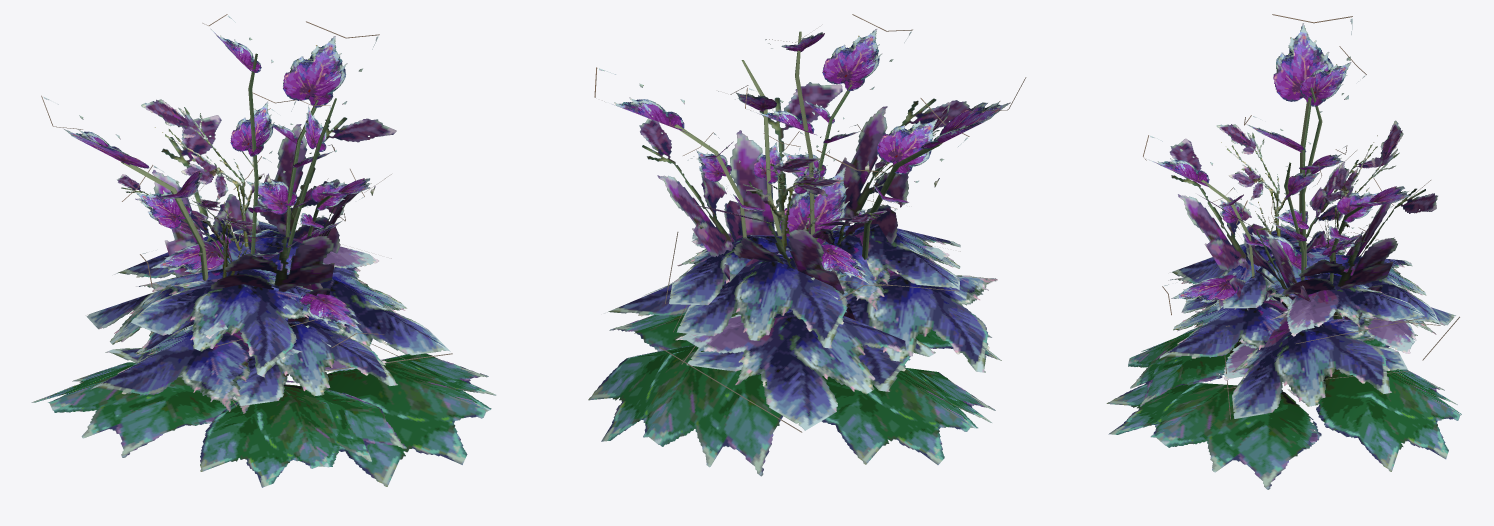
File: Plant_3002_zhiwu01_hua09.FBX
The picture shows the model from 3 angles, left to right: view 1: azimuth 30°, elevation 25°; view 2: azimuth 150°, elevation 25°; view 3: azimuth 270°, elevation 25°; orthographic projection. The views are drawn at different scales.
Visible parts, largest first — view 1: Plant_3002_zhiwu01_hua09; view 2: Plant_3002_zhiwu01_hua09; view 3: Plant_3002_zhiwu01_hua09.
Boxes of the visible parts, x1,y1,x2,y2 form: Plant_3002_zhiwu01_hua09: [31, 14, 496, 487]; Plant_3002_zhiwu01_hua09: [588, 14, 1026, 476]; Plant_3002_zhiwu01_hua09: [1106, 14, 1461, 489].
Bounding box in the file's own units: 157 × 143 × 146.
